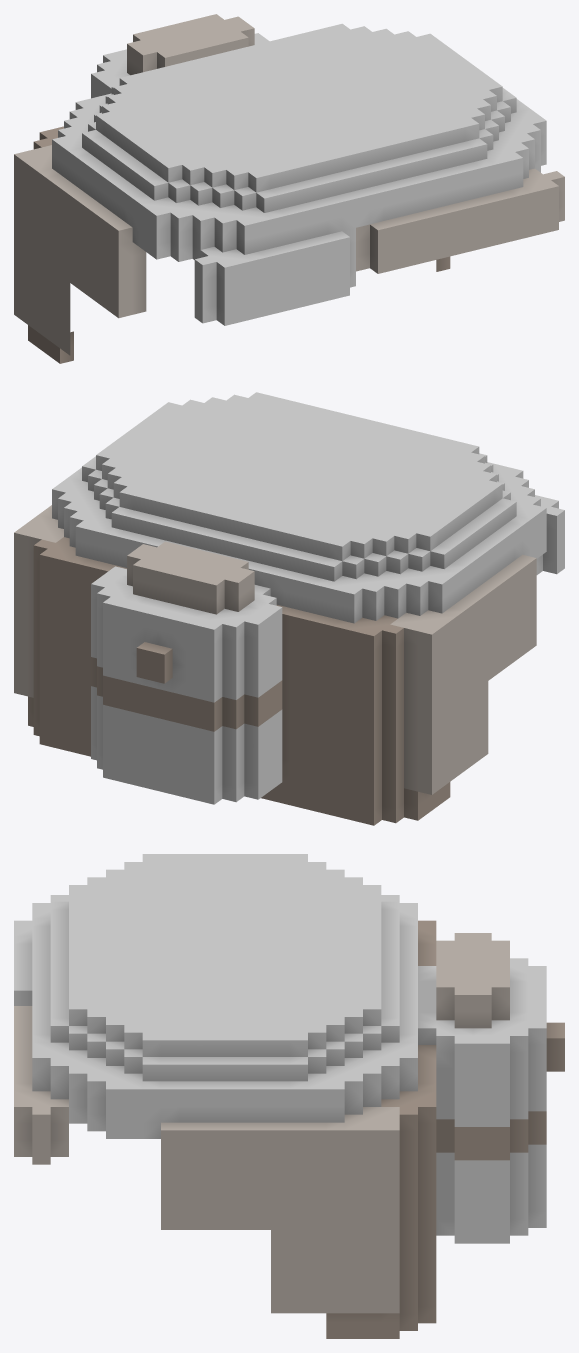
File: hair_f_bun.glb
3 renders of one model, top to bottom at view 1: azimuth 30°, elevation 25°; view 2: azimuth 150°, elevation 25°; view 3: azimuth 270°, elevation 25°, orthographic. The views are drawn at different scales.
Visible parts, largest first — view 1: VoxelVisual; view 2: VoxelVisual; view 3: VoxelVisual.
Boxes of the visible parts, x1,y1,x2,y2 form: VoxelVisual: (14, 14, 564, 363); VoxelVisual: (14, 392, 564, 825); VoxelVisual: (14, 854, 564, 1338).
Size of what is drawn, in the model's own units: 1.88 by 1.06 by 1.88.
